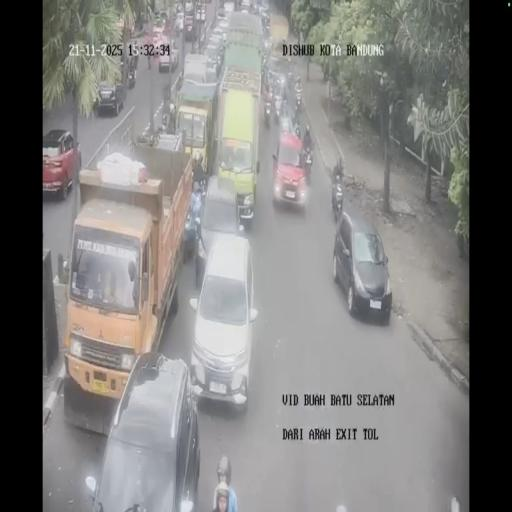car: (334, 204, 392, 318), (196, 171, 245, 280), (272, 128, 308, 210), (43, 128, 81, 198), (96, 79, 125, 116), (203, 40, 225, 80), (261, 33, 271, 74), (255, 0, 269, 26), (152, 24, 166, 46), (216, 16, 230, 38), (195, 1, 206, 22), (158, 6, 170, 24), (174, 11, 184, 32), (217, 4, 227, 18), (240, 0, 250, 12), (175, 2, 183, 14)
motorcycle: (331, 180, 343, 221), (302, 142, 313, 179), (279, 106, 293, 135), (273, 89, 283, 119), (263, 94, 271, 126), (292, 112, 300, 134), (295, 83, 302, 108), (287, 66, 293, 86)
truck: (65, 148, 191, 410), (173, 60, 218, 180), (221, 8, 265, 84), (158, 36, 179, 73), (125, 46, 139, 87), (184, 2, 196, 39), (116, 15, 134, 39)
